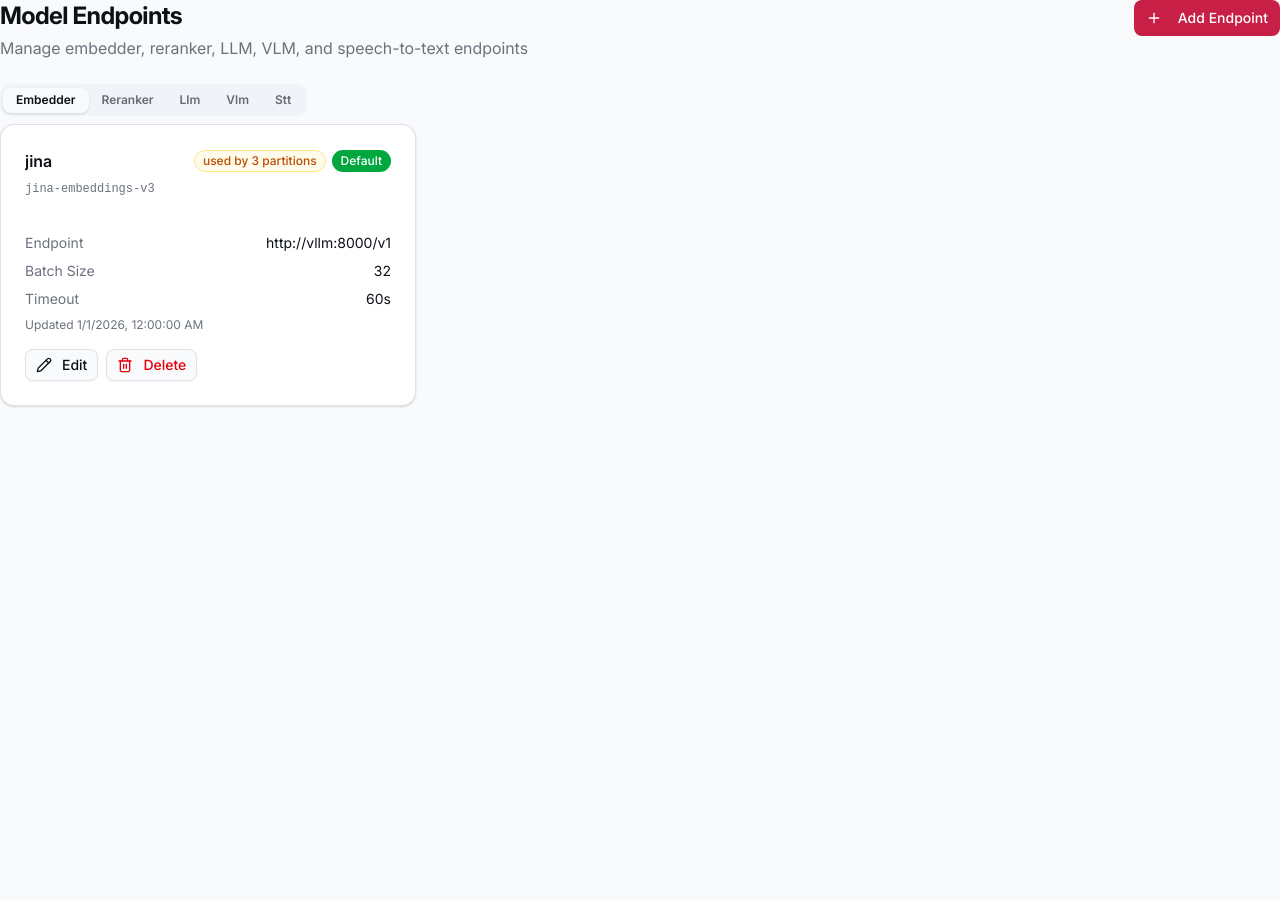
Test: ModelsPage delete warning (#762) › does not promise a refusal for the default embedder's empty followers
Expected: the text "used by 3 partitions" is shown, [194, 150, 326, 172]
Click the button "Delete" at coordinates (152, 365), box [106, 349, 197, 381]
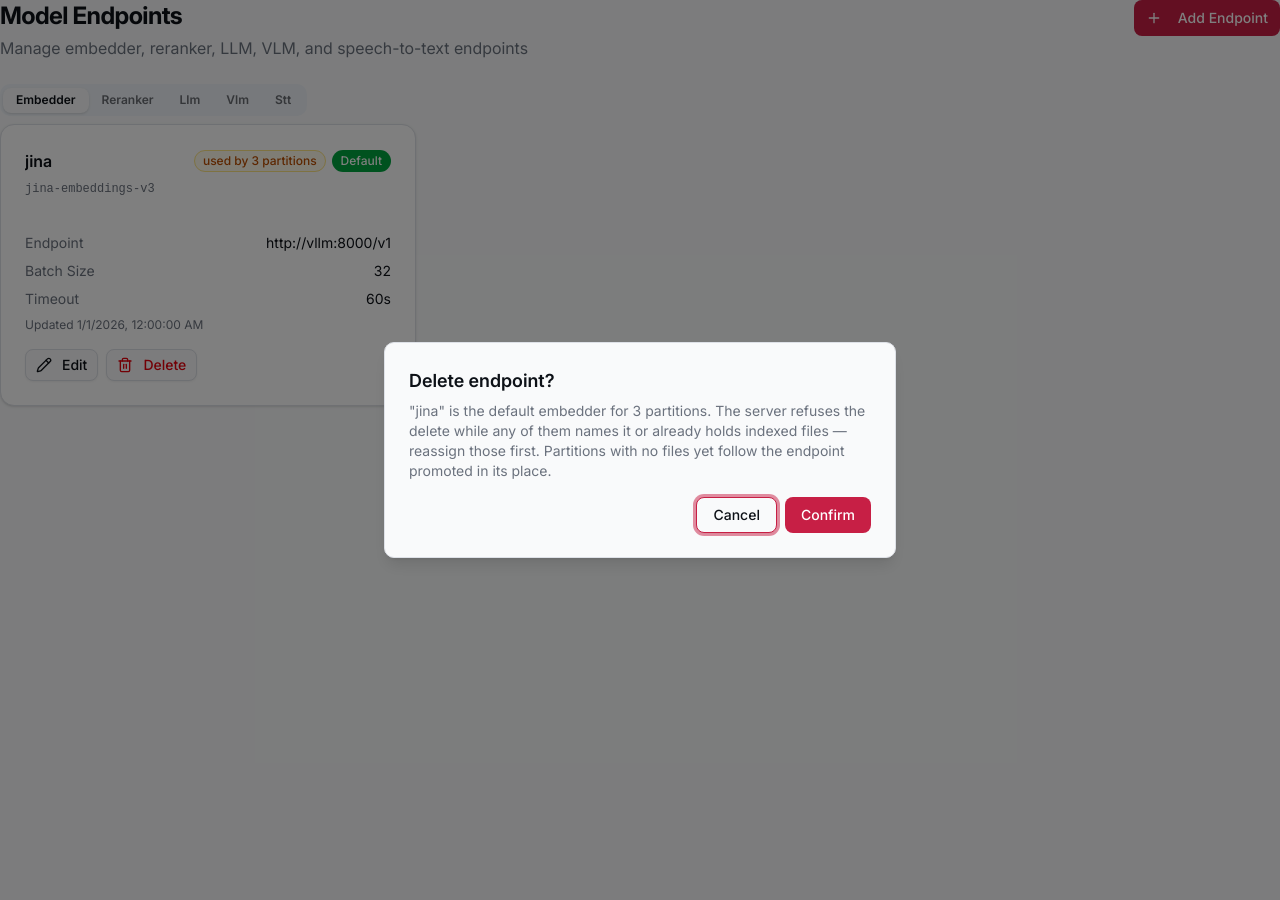
Expected: the text "already holds indexed files" is shown, [409, 402, 865, 479]
